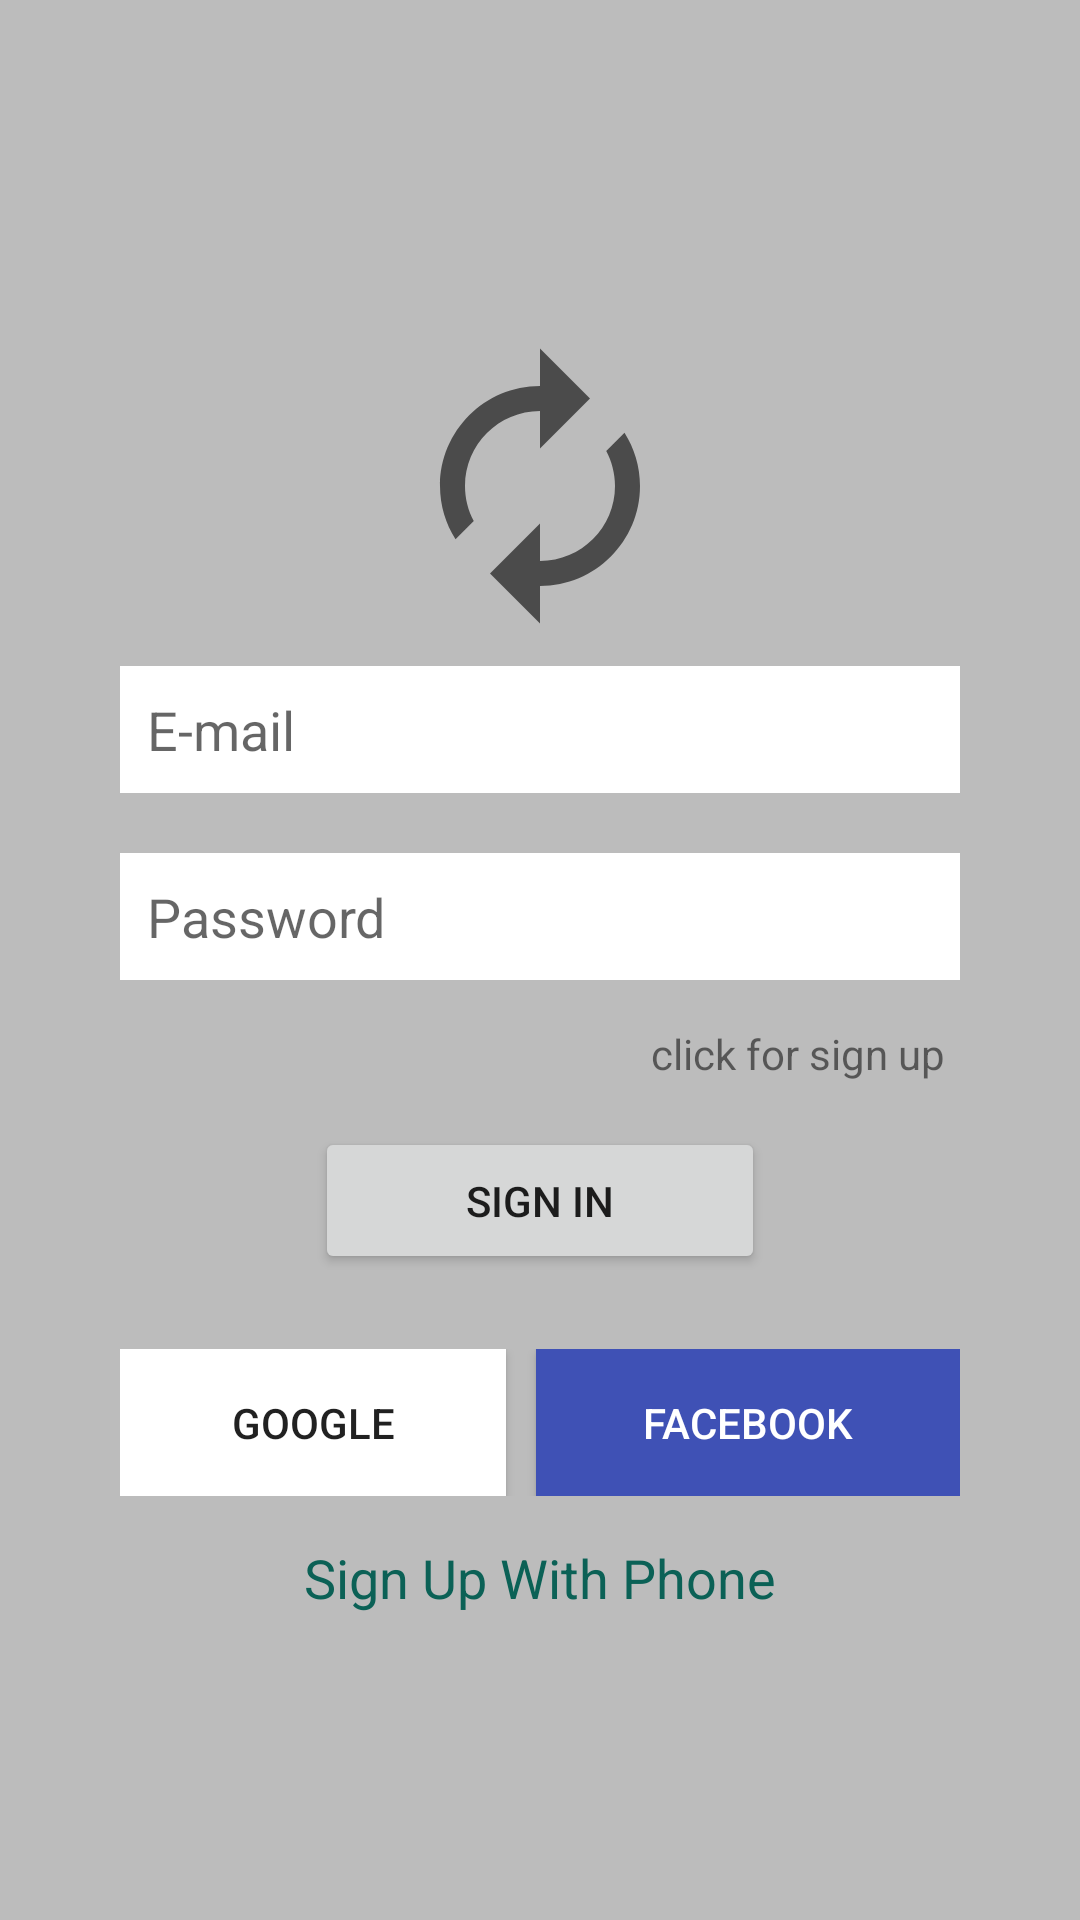

Named icons in this screenshot (1080*1920) and their centers, (x,y):
autorenew: (540,486)
